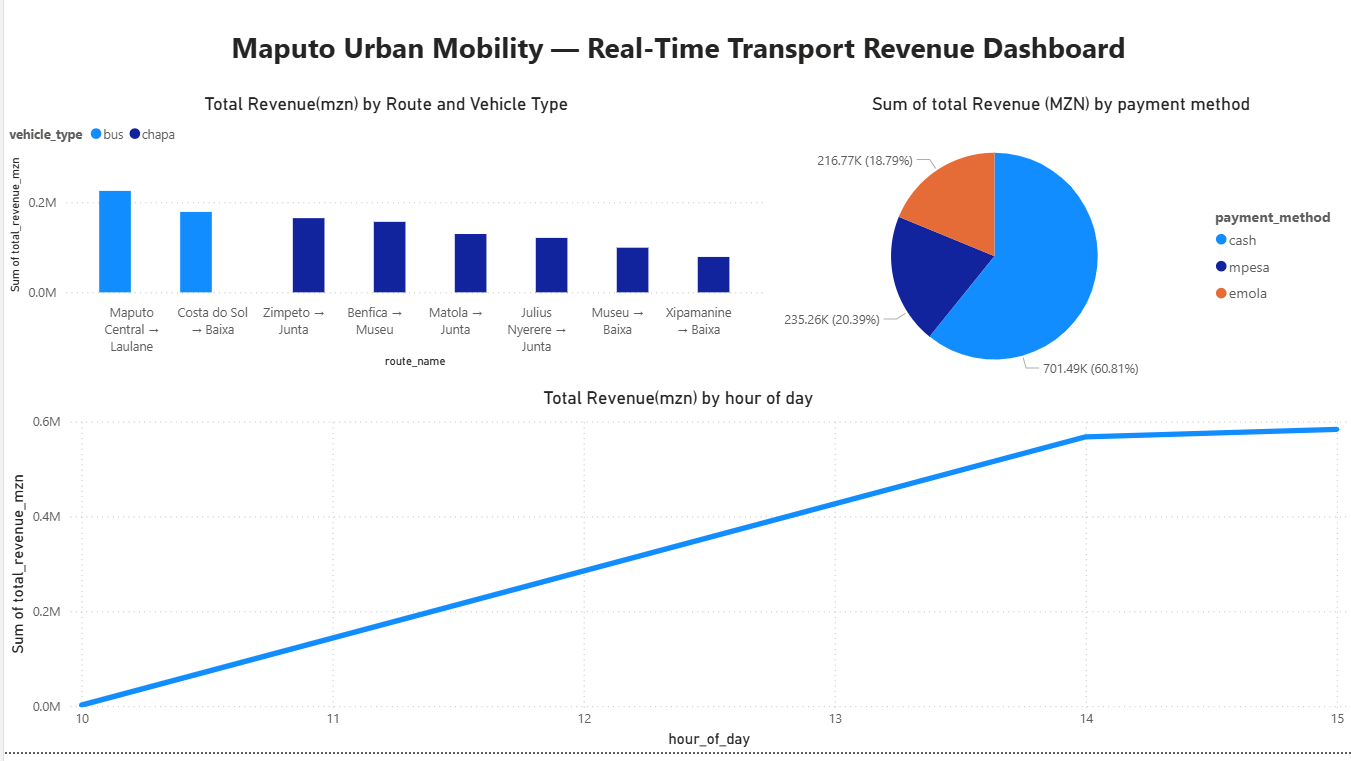

What the dashboard file says about the page in this screenshot:
{"tool":"powerbi","page":{"name":"Page 1","canvas":[1280,720],"ordinal":0},"visuals":[{"type":"pieChart","title":"Sum of total Revenue (MZN) by payment method","fields":{"Category":["vw_payment_split.payment_method"],"Y":["Sum(vw_payment_split.total_revenue_mzn)"]},"box":[725.9,94.7,554.4,290.9],"z":0},{"type":"lineChart","title":"Total Revenue(mzn) by hour of day","fields":{"Category":["vw_revenue_by_hour.hour_of_day"],"Y":["Sum(vw_revenue_by_hour.total_revenue_mzn)"]},"box":[0,373.2,1280.3,347.2],"z":1000},{"type":"textbox","box":[0,28.8,1280.3,65.9],"z":2000},{"type":"clusteredColumnChart","title":"Total Revenue(mzn) by Route and Vehicle Type","fields":{"Category":["vw_route_revenue.route_name"],"Y":["Sum(vw_route_revenue.total_revenue_mzn)"],"Series":["vw_route_revenue.vehicle_type"]},"box":[0,94.7,725.9,266.2],"z":3000}]}

Visuals, with their boxes in screenshot pixels (x1, y1, x2, y2), scaled from the page's 1280x720 canvas onto the 1351x761 screenshot:
"Sum of total Revenue (MZN) by payment method" pieChart: 766, 100, 1350, 408
"Total Revenue(mzn) by hour of day" lineChart: 0, 394, 1350, 760
textbox: 0, 30, 1350, 100
"Total Revenue(mzn) by Route and Vehicle Type" clusteredColumnChart: 0, 100, 766, 381
